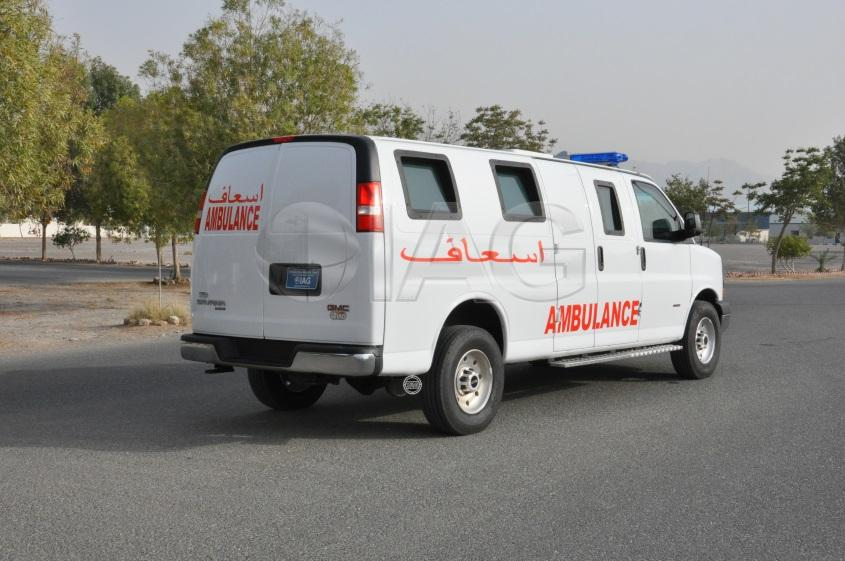ambulance_off: (179, 135, 723, 436)
